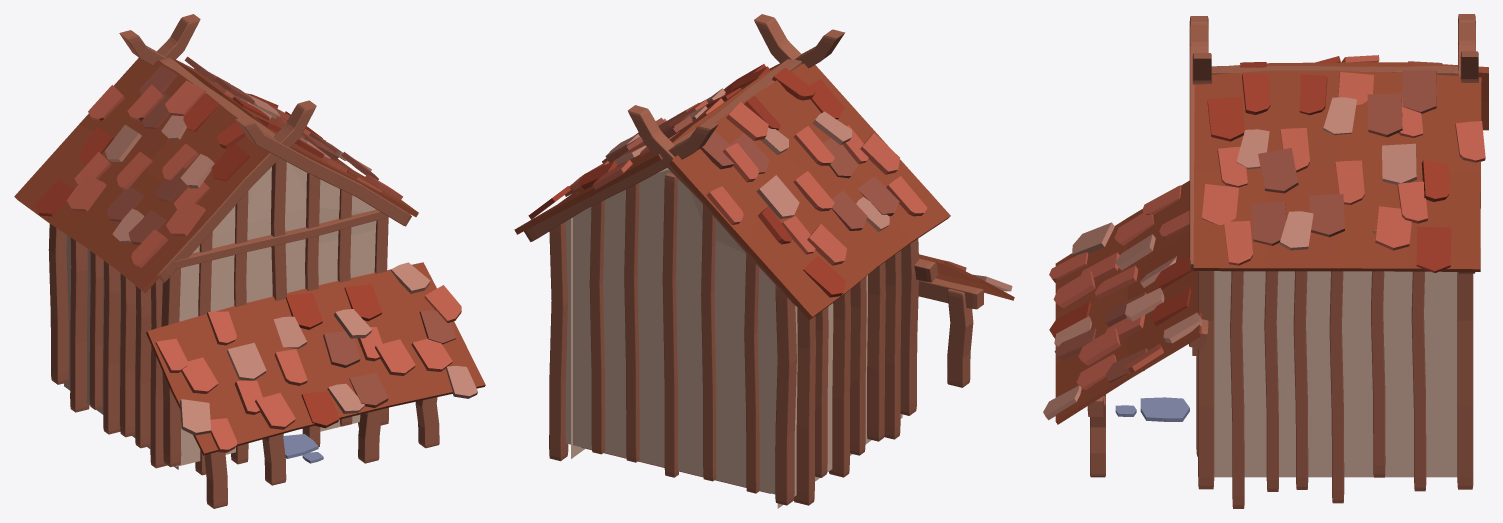
File: house2.fbx
3 views of the same model, side by side, from view 1: azimuth 30°, elevation 25°; view 2: azimuth 150°, elevation 25°; view 3: azimuth 270°, elevation 25° (orthographic). The views are drawn at different scales.
Parts seen in each view (by area): view 1: Plane.023, Plane.030, Plane.024, Cube.288, Cube.155, Cube.157, Cube.172, Cube.175, Cube.173, Cube.171, Cube.169, Cube.156 (+61 smaller); view 2: Plane.025, Plane.030, Cube.153, Cube.175, Cube.181, Cube.163, Cube.161, Cube.288, Cube.164, Cube.172, Cube.167, Cube.173 (+36 smaller); view 3: Plane.028, Plane.029, Plane.023, Cube.181, Cube.176, Cube.180, Cube.178, Cube.179, Cube.286, Cube.177, Cube.285, Cube.157 (+49 smaller).
Part boxes in pixels (x1,y1,x2,y2): Plane.023: (146,262,485,455); Plane.030: (14,58,269,293); Plane.024: (175,162,376,466); Cube.288: (70,237,89,412); Cube.155: (157,100,316,282); Cube.157: (235,116,411,226); Cube.172: (103,261,120,434); Cube.175: (48,224,68,384); Cube.173: (135,286,151,448); Cube.171: (120,273,135,437); Cube.169: (173,209,388,269); Cube.156: (161,268,181,467); Plane.025: (565,170,777,494); Plane.030: (669,63,950,320); Cube.153: (662,173,679,477); Cube.175: (775,285,796,505); Cube.181: (549,222,568,461); Cube.163: (624,183,639,462); Cube.161: (701,204,716,481); Cube.288: (794,307,815,505); Cube.164: (589,200,604,454); Cube.172: (829,289,850,477); Cube.167: (744,253,759,493); Cube.173: (867,262,885,441); Plane.028: (1214,271,1457,477); Plane.029: (1193,70,1481,271); Plane.023: (1055,180,1201,424); Cube.181: (1457,272,1473,489); Cube.176: (1198,271,1214,489); Cube.180: (1230,271,1244,508); Cube.178: (1329,271,1344,503); Cube.179: (1264,271,1278,491); Cube.286: (1411,227,1426,491); Cube.177: (1293,271,1308,489); Cube.285: (1371,229,1385,477); Cube.157: (1189,16,1208,270).
Size of the model in its own units: 628 by 708 by 699.
